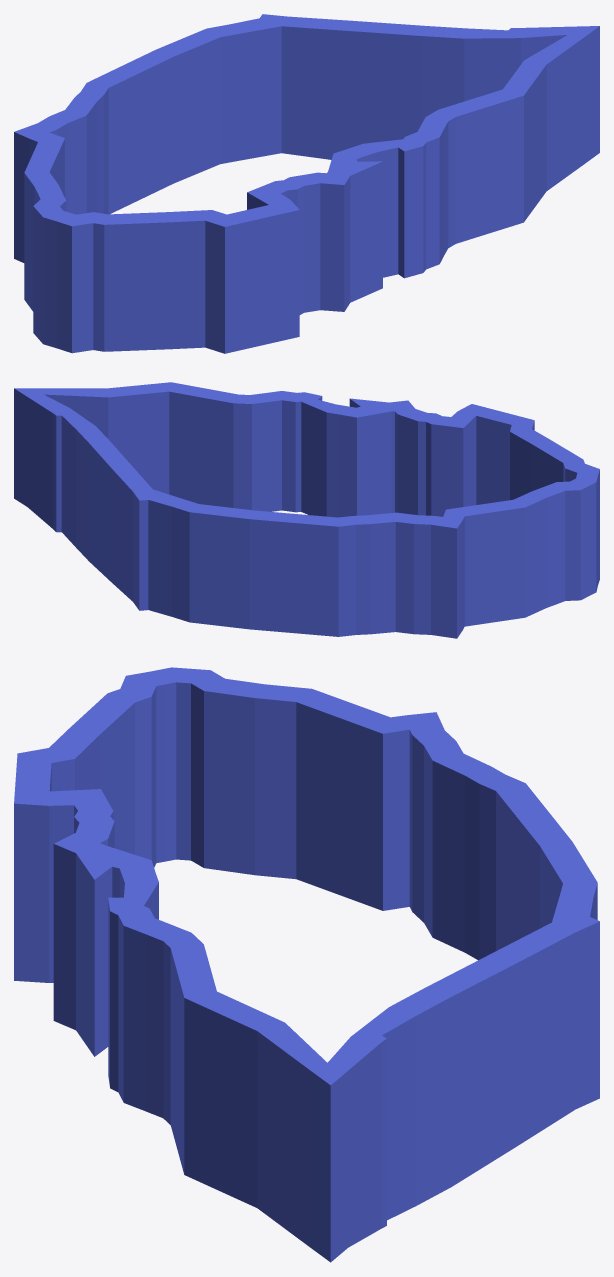
The model's file is ColliderWall_L.fbx.
3 views of the same model, one above another, from view 1: azimuth 30°, elevation 25°; view 2: azimuth 150°, elevation 25°; view 3: azimuth 270°, elevation 25° (orthographic). The views are drawn at different scales.
Parts seen in each view (by area): view 1: ColliderWalls_L; view 2: ColliderWalls_L; view 3: ColliderWalls_L.
Boxes of the visible parts, x1,y1,x2,y2 form: ColliderWalls_L: (14,14,599,353); ColliderWalls_L: (14,382,599,638); ColliderWalls_L: (14,667,599,1262).
Bounding box in the file's own units: 2617 × 556 × 1550.
